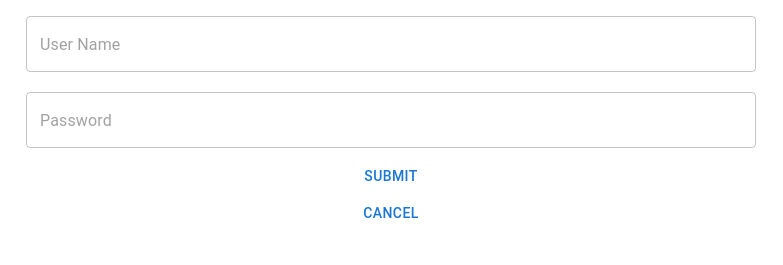
Test case: <LoginForm /> render elements › should display error message when username or password is empty
Click the button "Submit": (391, 176) [16,158,766,194]
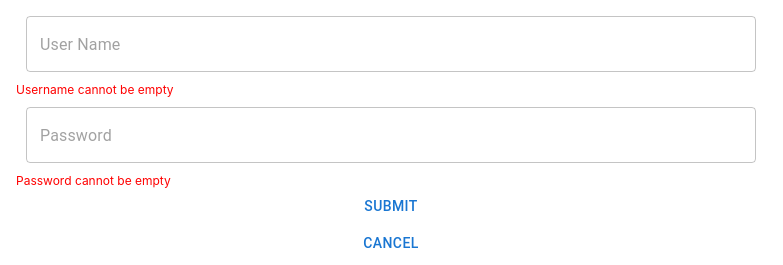
Check: the text "Username cannot be empty" is shown, box [16,82,174,97]
Check: the text "Password cannot be empty" is shown, box [16,173,171,188]
